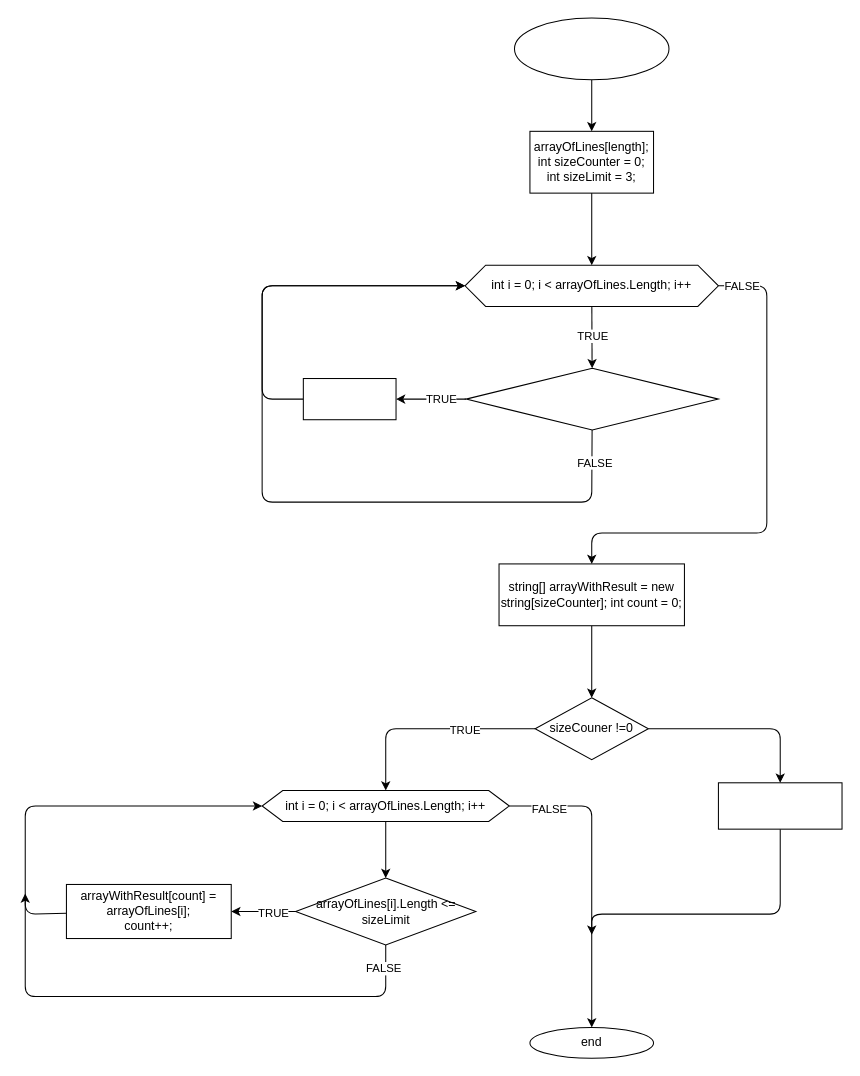
The diagram is 860 pixels wide and 1076 high, and some of its shapes have lost their labels. The shapes that lost their labels are listed below. From the top down, each one's box as (x1, y1, x2, y2) in pixels, then its label:
(513, 17, 669, 80): start
(302, 377, 396, 420): sizeCounter++;
(465, 367, 718, 430): arrayOgLines[i].Length <= sizeLimit
(717, 782, 842, 829): string[] arrayEmptyLine
